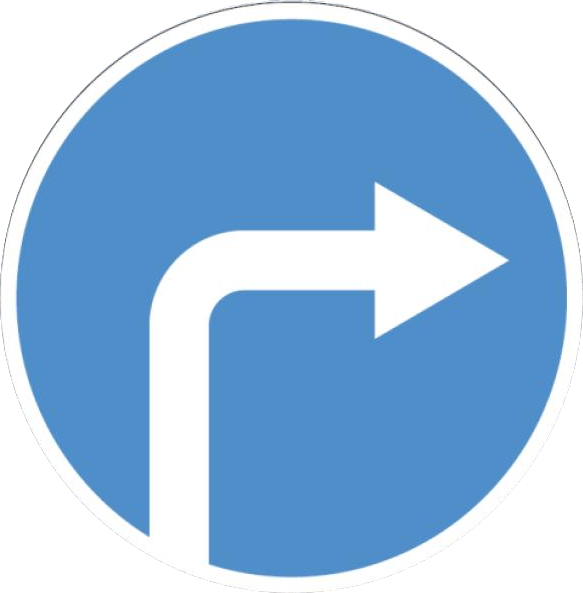turn_right: (13, 9, 556, 567)
